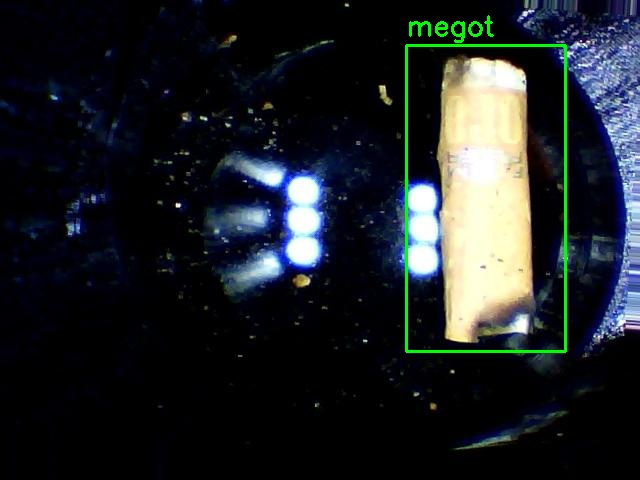megot: (406, 45, 565, 351)
